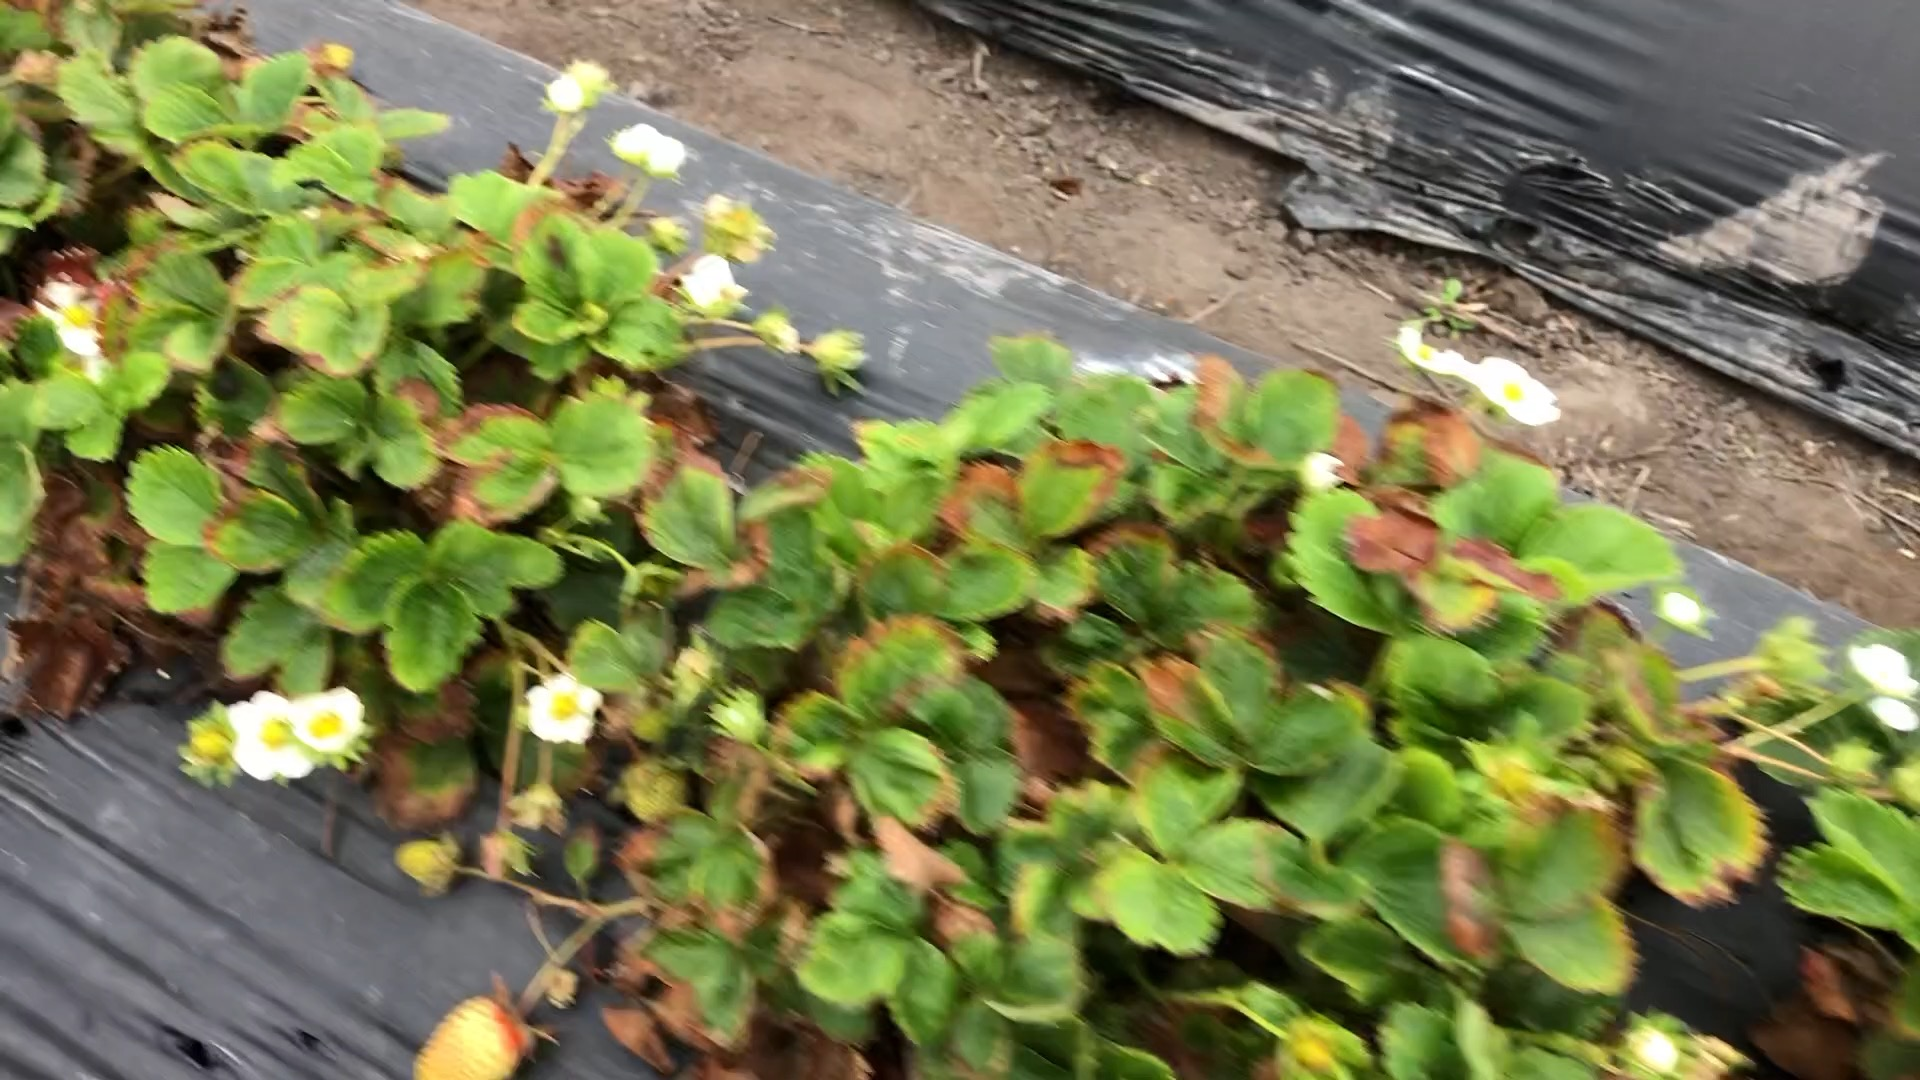unripe_strawberry: (406, 986, 538, 1080), (392, 829, 465, 902), (618, 756, 691, 825)
